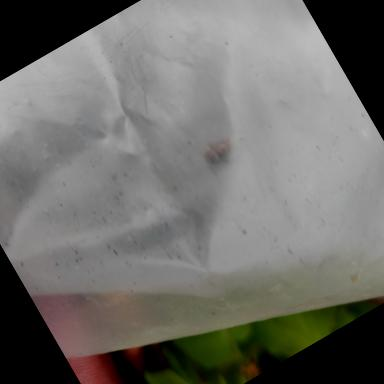pbw: (201, 134, 240, 169)
